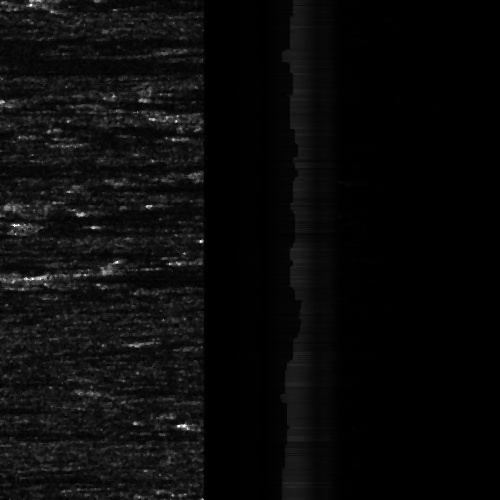object: (0, 261, 97, 286), (0, 469, 47, 484)
shadow: (0, 49, 189, 78), (45, 261, 132, 286), (0, 469, 144, 484), (0, 159, 164, 172), (0, 226, 169, 237), (0, 34, 149, 43), (0, 374, 74, 387), (0, 427, 75, 436), (0, 262, 25, 271)
